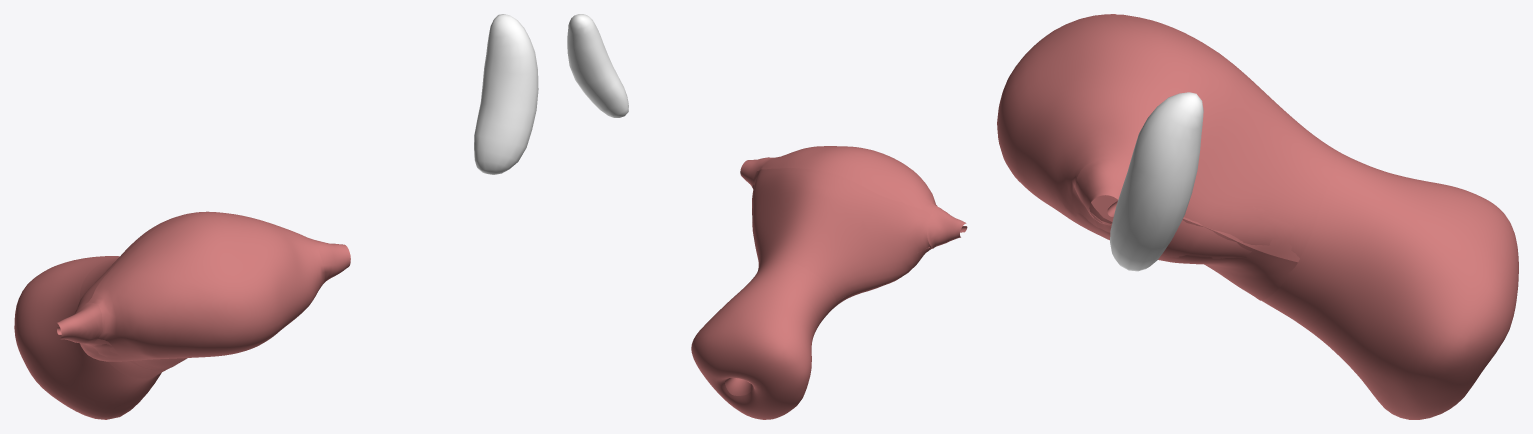
Rendered from 3d-vh-f-fallopian-tube-l-landmark.glb.
The picture shows the model from 3 angles, left to right: view 1: azimuth 30°, elevation 25°; view 2: azimuth 150°, elevation 25°; view 3: azimuth 270°, elevation 25°; orthographic projection. The views are drawn at different scales.
Parts seen in each view (by area): view 1: VH_F_fallopian_tube_L_landmark_uterus, VH_F_fallopian_tube_L_landmark_left_ovary; view 2: VH_F_fallopian_tube_L_landmark_uterus, VH_F_fallopian_tube_L_landmark_left_ovary; view 3: VH_F_fallopian_tube_L_landmark_uterus, VH_F_fallopian_tube_L_landmark_left_ovary.
Part boxes in pixels (x1=…): VH_F_fallopian_tube_L_landmark_uterus: x1=14, y1=211, x2=350, y2=419; VH_F_fallopian_tube_L_landmark_left_ovary: x1=474, y1=14, x2=538, y2=174; VH_F_fallopian_tube_L_landmark_uterus: x1=691, y1=146, x2=967, y2=419; VH_F_fallopian_tube_L_landmark_left_ovary: x1=567, y1=14, x2=628, y2=117; VH_F_fallopian_tube_L_landmark_uterus: x1=997, y1=14, x2=1518, y2=419; VH_F_fallopian_tube_L_landmark_left_ovary: x1=1110, y1=92, x2=1203, y2=271.
Bounding box in the file's own units: 0.0902 × 0.0667 × 0.0587.
